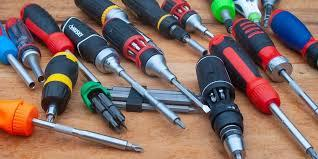screwdriver: (61, 16, 180, 124), (209, 34, 312, 154), (231, 17, 317, 115), (0, 97, 128, 150), (195, 55, 245, 153), (102, 18, 177, 83), (121, 0, 207, 53), (1, 15, 45, 82), (0, 23, 35, 87), (40, 54, 78, 111), (172, 79, 211, 114), (101, 111, 117, 127), (110, 106, 125, 122), (126, 140, 143, 153), (175, 119, 186, 130), (45, 114, 54, 122)
